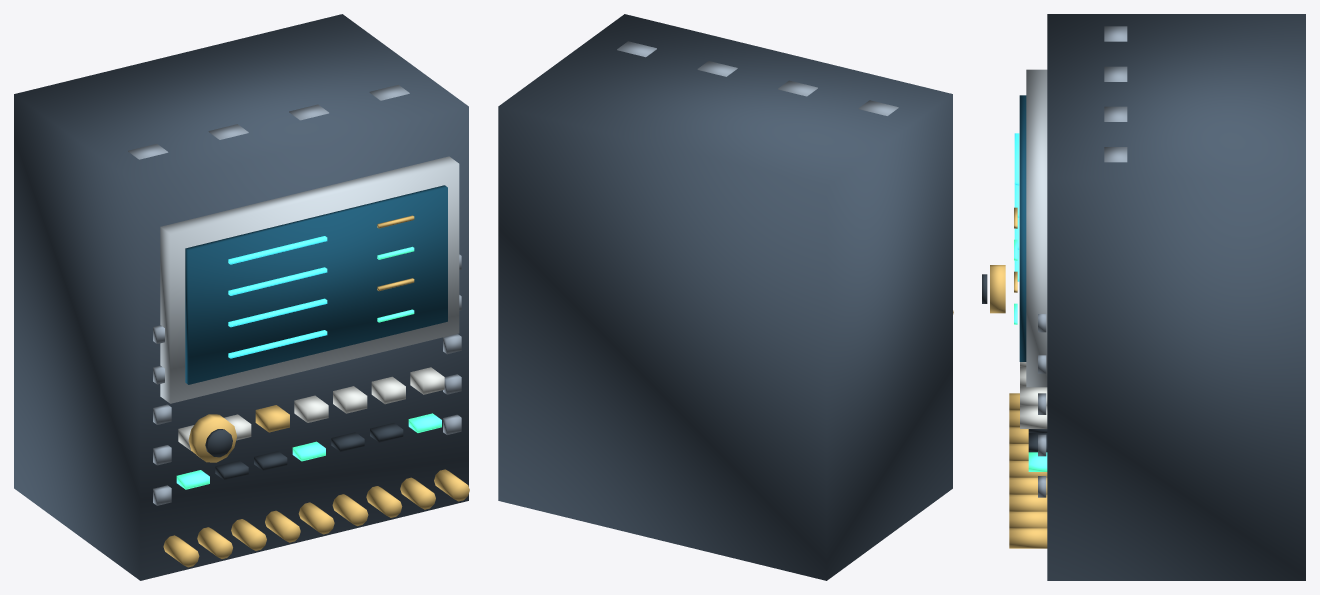
Rendered from 85_L88_MissionOccupancyDemandSimulator.glb.
3 renders of one model, left to right at view 1: azimuth 30°, elevation 25°; view 2: azimuth 150°, elevation 25°; view 3: azimuth 270°, elevation 25°, orthographic. The views are drawn at different scales.
Visible parts, largest first — view 1: L87_MissionOccupancyDemandSim_Part_0000, L87_MissionOccupancyDemandSim_Part_0002, L87_MissionOccupancyDemandSim_Part_0001, L87_MissionOccupancyDemandSim_Part_0004, L87_MissionOccupancyDemandSim_Part_0008, L87_MissionOccupancyDemandSim_Part_0006, L87_MissionOccupancyDemandSim_Part_0003, L87_MissionOccupancyDemandSim_Part_0007, L87_MissionOccupancyDemandSim_Part_0005, L87_MissionOccupancyDemandSim_Part_0009, L87_MissionOccupancyDemandSim_Part_0010; view 2: L87_MissionOccupancyDemandSim_Part_0000, L87_MissionOccupancyDemandSim_Part_0008; view 3: L87_MissionOccupancyDemandSim_Part_0000, L87_MissionOccupancyDemandSim_Part_0001, L87_MissionOccupancyDemandSim_Part_0004, L87_MissionOccupancyDemandSim_Part_0008, L87_MissionOccupancyDemandSim_Part_0002, L87_MissionOccupancyDemandSim_Part_0006, L87_MissionOccupancyDemandSim_Part_0009, L87_MissionOccupancyDemandSim_Part_0003, L87_MissionOccupancyDemandSim_Part_0005.
Part boxes in pixels (left/top/right/bottom): L87_MissionOccupancyDemandSim_Part_0000: left=14, top=14, right=468, bottom=580; L87_MissionOccupancyDemandSim_Part_0002: left=185, top=185, right=447, bottom=384; L87_MissionOccupancyDemandSim_Part_0001: left=160, top=156, right=459, bottom=403; L87_MissionOccupancyDemandSim_Part_0004: left=163, top=215, right=469, bottom=567; L87_MissionOccupancyDemandSim_Part_0008: left=128, top=85, right=461, bottom=505; L87_MissionOccupancyDemandSim_Part_0006: left=178, top=367, right=444, bottom=450; L87_MissionOccupancyDemandSim_Part_0003: left=228, top=236, right=327, bottom=358; L87_MissionOccupancyDemandSim_Part_0007: left=215, top=423, right=403, bottom=480; L87_MissionOccupancyDemandSim_Part_0005: left=176, top=246, right=441, bottom=489; L87_MissionOccupancyDemandSim_Part_0009: left=188, top=414, right=236, bottom=462; L87_MissionOccupancyDemandSim_Part_0010: left=205, top=429, right=232, bottom=457; L87_MissionOccupancyDemandSim_Part_0000: left=498, top=14, right=952, bottom=580; L87_MissionOccupancyDemandSim_Part_0008: left=617, top=41, right=898, bottom=115; L87_MissionOccupancyDemandSim_Part_0000: left=1047, top=14, right=1305, bottom=580; L87_MissionOccupancyDemandSim_Part_0001: left=1026, top=69, right=1047, bottom=387; L87_MissionOccupancyDemandSim_Part_0004: left=1009, top=207, right=1047, bottom=548; L87_MissionOccupancyDemandSim_Part_0008: left=1038, top=26, right=1127, bottom=497; L87_MissionOccupancyDemandSim_Part_0002: left=1019, top=95, right=1026, bottom=361; L87_MissionOccupancyDemandSim_Part_0006: left=1020, top=362, right=1047, bottom=428; L87_MissionOccupancyDemandSim_Part_0009: left=990, top=265, right=1005, bottom=313; L87_MissionOccupancyDemandSim_Part_0003: left=1014, top=133, right=1019, bottom=281; L87_MissionOccupancyDemandSim_Part_0005: left=1014, top=239, right=1047, bottom=471.
Bounding box in the file's own units: 1.04 × 1.2 × 0.8688.
